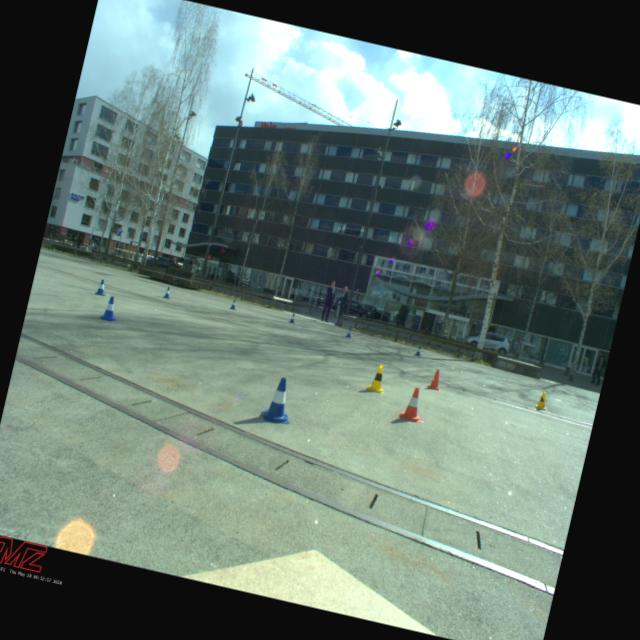blue_cone: (260, 374, 300, 427), (97, 294, 121, 323), (93, 278, 109, 296), (162, 286, 172, 299), (229, 298, 238, 310), (288, 312, 297, 324), (413, 344, 422, 356), (345, 327, 353, 338)
orange_cone: (397, 384, 428, 424), (426, 368, 444, 391)
yellow_cone: (366, 362, 390, 394), (533, 389, 551, 411)
